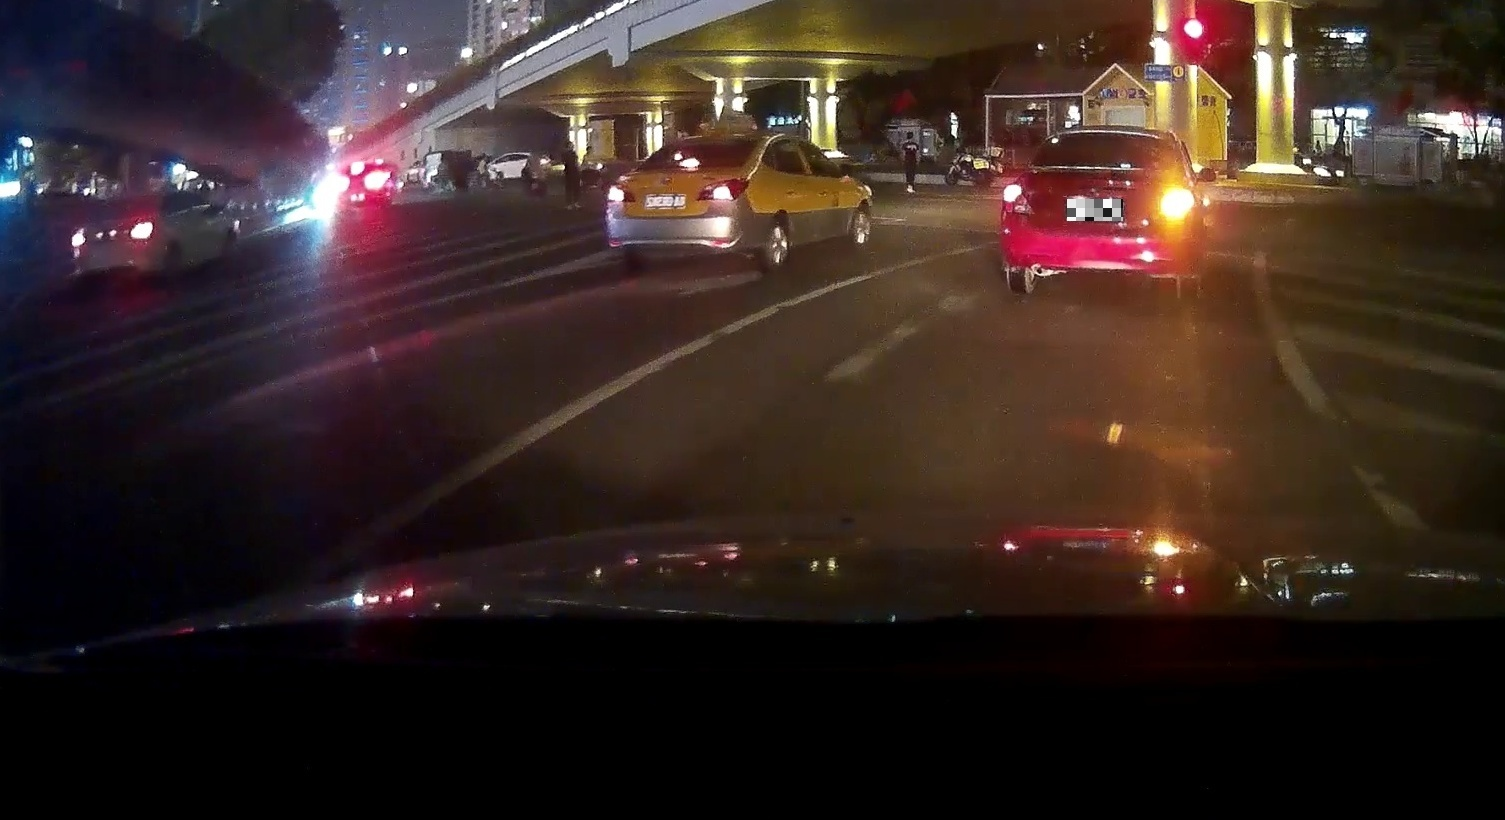L_light: (1003, 184, 1034, 216), (607, 186, 635, 203)
R_light: (698, 178, 748, 200), (1155, 190, 1190, 220)
T_light: (1096, 132, 1123, 140), (678, 160, 700, 167)
night-brake: (606, 133, 762, 273)
night-right: (999, 126, 1199, 298)
plate_1: (1067, 199, 1123, 221)
